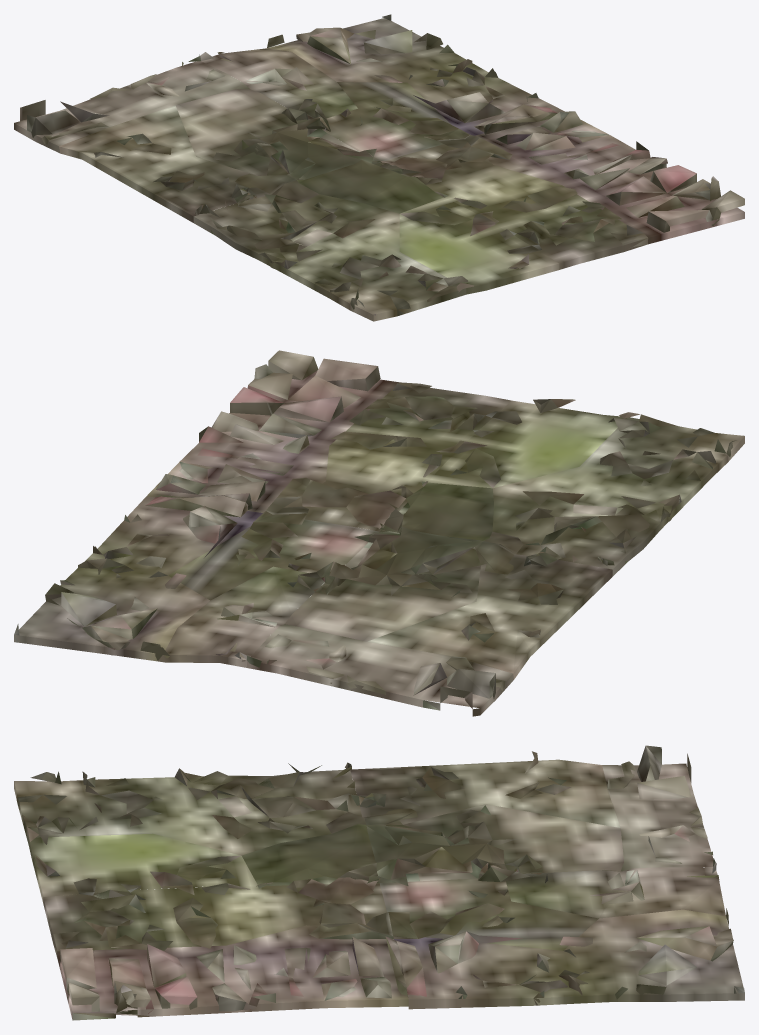
3 renders of one model, top to bottom at view 1: azimuth 30°, elevation 25°; view 2: azimuth 150°, elevation 25°; view 3: azimuth 270°, elevation 25°, orthographic. The views are drawn at different scales.
Visible parts, largest first — view 1: Mesh_0; view 2: Mesh_0; view 3: Mesh_0.
Part boxes in pixels (<box>): Mesh_0: <box>14,14,744,321</box>; Mesh_0: <box>14,350,744,716</box>; Mesh_0: <box>14,745,744,1020</box>.
Bounding box in the file's own units: 1065 × 94.14 × 1318.
Materials: 1 (1 with a texture image).
